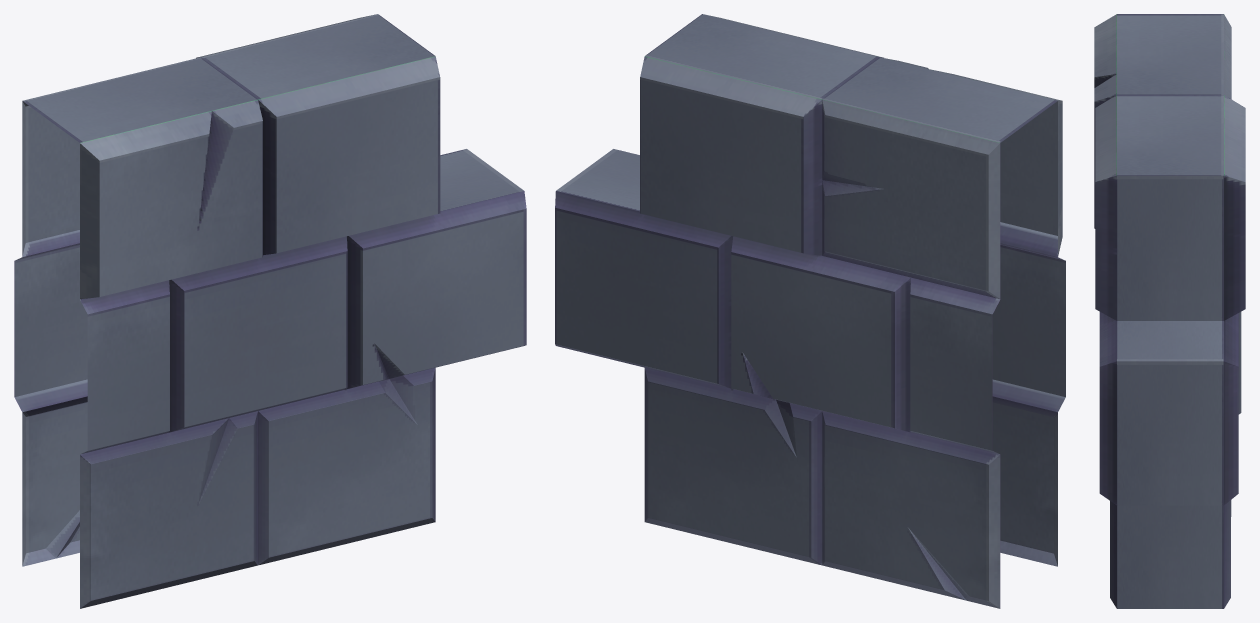
Rendered from wall2.fbx.
3 renders of one model, left to right at view 1: azimuth 30°, elevation 25°; view 2: azimuth 150°, elevation 25°; view 3: azimuth 270°, elevation 25°, orthographic. The views are drawn at different scales.
Visible parts, largest first — view 1: ModularAssetsDisplay.007; view 2: ModularAssetsDisplay.007; view 3: ModularAssetsDisplay.007.
Boxes of the visible parts, left/top/right/bottom form: ModularAssetsDisplay.007: left=14, top=14, right=526, bottom=608; ModularAssetsDisplay.007: left=555, top=14, right=1065, bottom=608; ModularAssetsDisplay.007: left=1094, top=14, right=1245, bottom=608.
Bounding box in the file's own units: 83.13 × 83.26 × 26.34.
